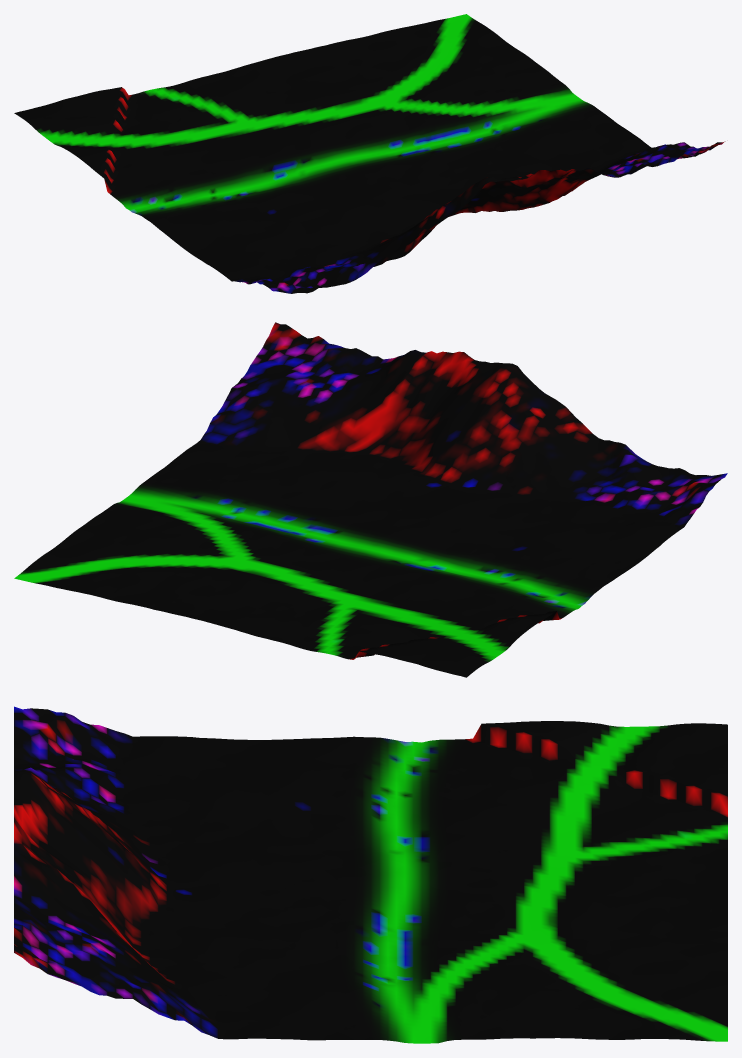
Rendered from SM_AsirMountains_Terrain_0_1.fbx.
The picture shows the model from 3 angles, top to bottom: view 1: azimuth 30°, elevation 25°; view 2: azimuth 150°, elevation 25°; view 3: azimuth 270°, elevation 25°; orthographic projection. The views are drawn at different scales.
Parts seen in each view (by area): view 1: SM_AsirMountains_Terrain_0_1; view 2: SM_AsirMountains_Terrain_0_1; view 3: SM_AsirMountains_Terrain_0_1.
Boxes of the visible parts, box(x1,y1,x2,y2) form: SM_AsirMountains_Terrain_0_1: box(14, 14, 725, 293); SM_AsirMountains_Terrain_0_1: box(14, 322, 727, 677); SM_AsirMountains_Terrain_0_1: box(14, 706, 727, 1043).
Bounding box in the file's own units: 50400 × 9075 × 50400.
